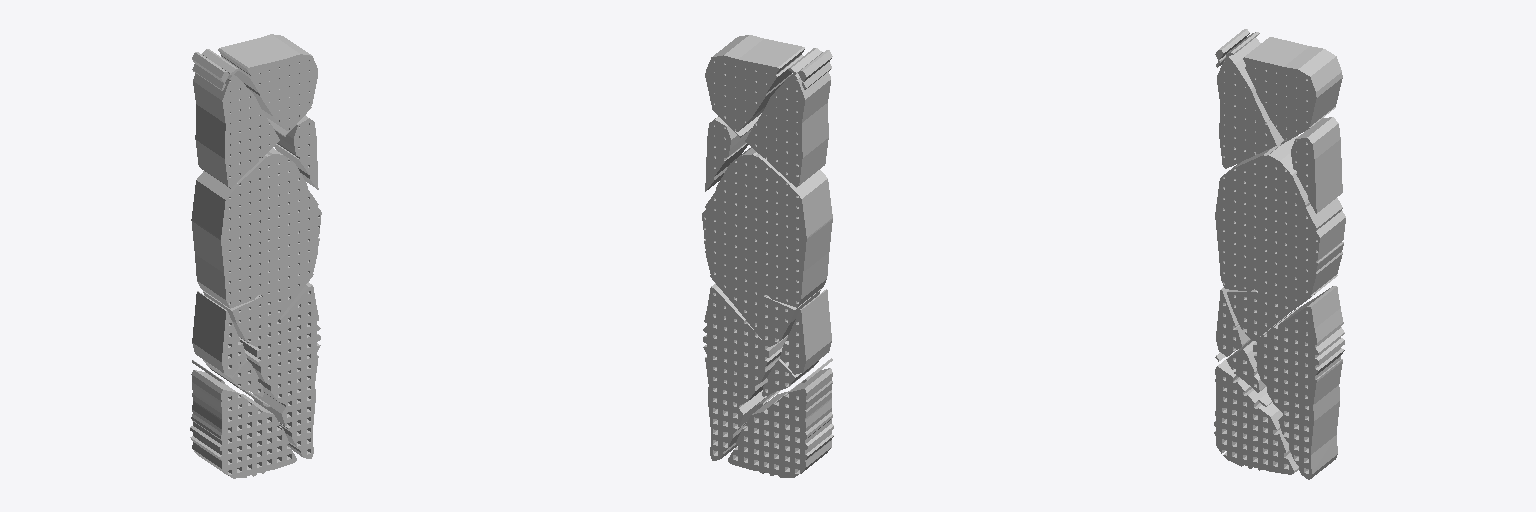
File: 1_naranja.obj
The picture shows the model from 3 angles: view 1: azimuth 30°, elevation 25°; view 2: azimuth 150°, elevation 25°; view 3: azimuth 330°, elevation 25°; orthographic projection.
Parts seen in each view (by area): view 1: Mesh5 G_1_2_1 Model, Mesh9 G_1_2_1 Model, Mesh2 G_1_2_1 Model, Mesh3 G_1_2_1 Model, Mesh6 G_1_2_1 Model, Mesh4 G_1_2_1 Model, Mesh7 G_1_2_1 Model, Mesh1 G_1_2_1 Model; view 2: Mesh5 G_1_2_1 Model, Mesh9 G_1_2_1 Model, Mesh2 G_1_2_1 Model, Mesh3 G_1_2_1 Model, Mesh6 G_1_2_1 Model, Mesh4 G_1_2_1 Model, Mesh7 G_1_2_1 Model, Mesh1 G_1_2_1 Model; view 3: Mesh5 G_1_2_1 Model, Mesh3 G_1_2_1 Model, Mesh9 G_1_2_1 Model, Mesh2 G_1_2_1 Model, Mesh4 G_1_2_1 Model, Mesh6 G_1_2_1 Model, Mesh7 G_1_2_1 Model.
Part boxes in pixels (x1,y1,x2,y2): Mesh5 G_1_2_1 Model: (191, 148, 321, 458); Mesh9 G_1_2_1 Model: (190, 370, 296, 478); Mesh2 G_1_2_1 Model: (193, 49, 279, 188); Mesh3 G_1_2_1 Model: (218, 34, 317, 136); Mesh6 G_1_2_1 Model: (192, 291, 246, 375); Mesh4 G_1_2_1 Model: (274, 115, 318, 189); Mesh7 G_1_2_1 Model: (203, 359, 263, 396); Mesh1 G_1_2_1 Model: (192, 52, 228, 90); Mesh5 G_1_2_1 Model: (702, 147, 832, 460); Mesh9 G_1_2_1 Model: (728, 368, 833, 477); Mesh2 G_1_2_1 Model: (745, 48, 830, 187); Mesh3 G_1_2_1 Model: (705, 35, 804, 137); Mesh6 G_1_2_1 Model: (780, 289, 831, 374); Mesh4 G_1_2_1 Model: (705, 116, 751, 191); Mesh7 G_1_2_1 Model: (762, 359, 818, 396); Mesh1 G_1_2_1 Model: (798, 50, 832, 89); Mesh5 G_1_2_1 Model: (1215, 136, 1345, 479); Mesh3 G_1_2_1 Model: (1243, 37, 1342, 143); Mesh9 G_1_2_1 Model: (1214, 349, 1298, 474); Mesh2 G_1_2_1 Model: (1217, 32, 1283, 168); Mesh4 G_1_2_1 Model: (1291, 117, 1342, 213); Mesh6 G_1_2_1 Model: (1216, 287, 1250, 356); Mesh7 G_1_2_1 Model: (1226, 340, 1266, 392).
Bounding box in the file's own units: 21.96 × 81.59 × 10.75.